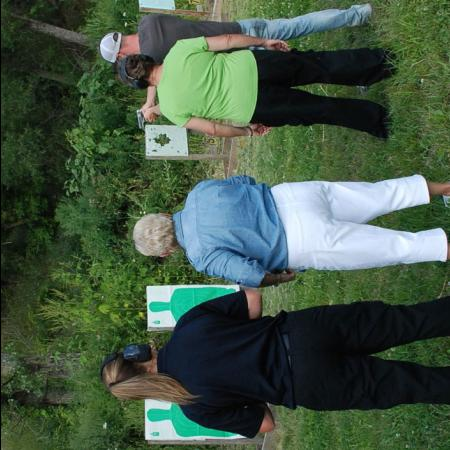Pistol: (135, 108, 148, 132)
